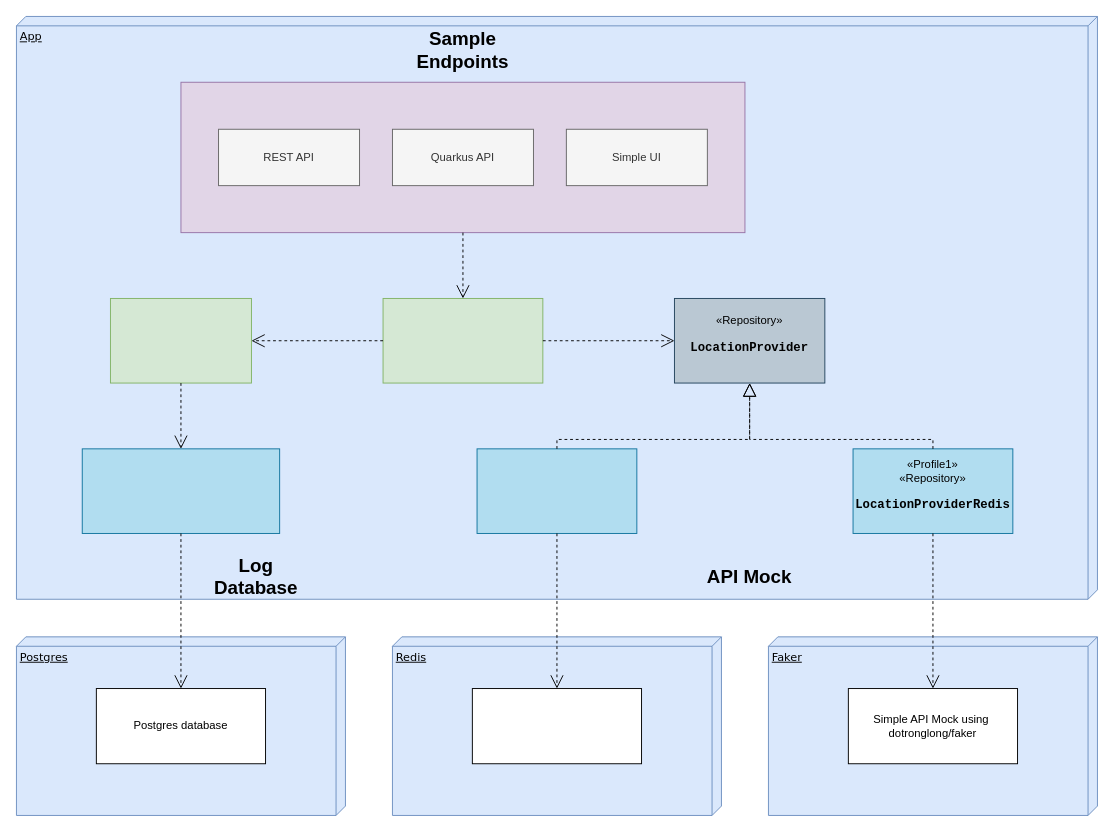
Some shapes in this 1114 by 832 pixel diagram are drawn without their labels. The shapes that lost their labels are listed below. From the top down, each one's box as (x1, y1, x2, y2) in pixels, then its label:
(110, 298, 251, 383): «Service» LogSearchService
(382, 298, 543, 383): «Service» Location SearchService
(81, 448, 280, 533): «Repository» LogSearchLocationRepository
(476, 448, 637, 533): «Profile2» «Repository» Location ProviderRedis
(471, 688, 642, 764): Simple API Mock using Redis
